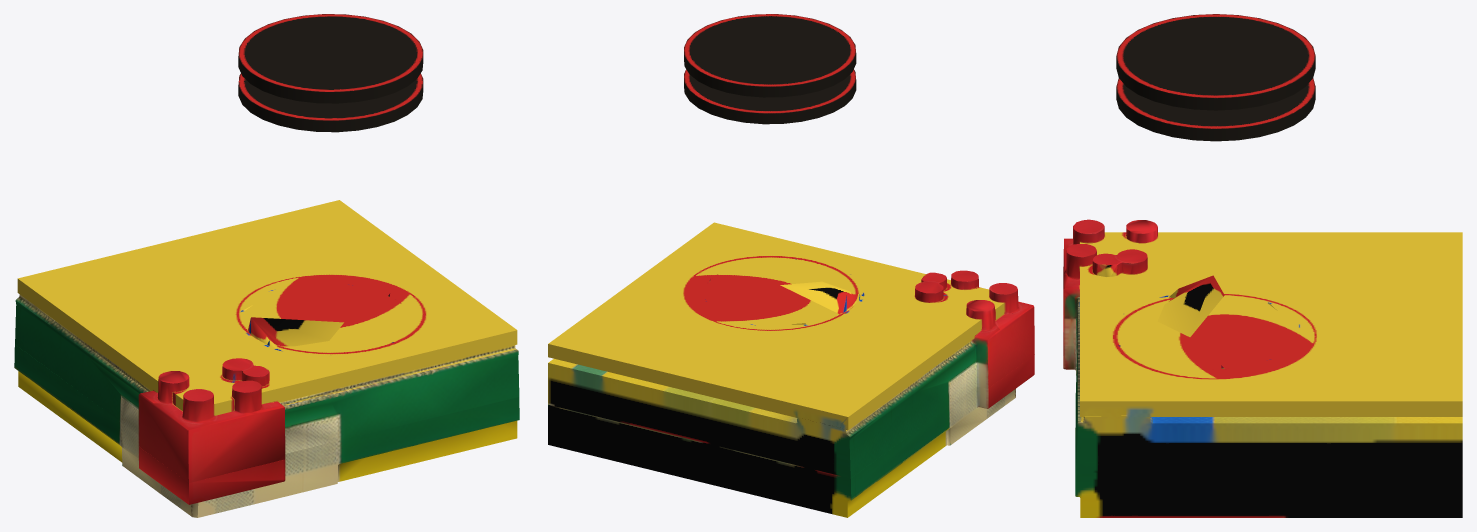
Rendered from 9-roof-front-left.fbx.
3 renders of one model, left to right at view 1: azimuth 30°, elevation 25°; view 2: azimuth 150°, elevation 25°; view 3: azimuth 270°, elevation 25°, orthographic. The views are drawn at different scales.
Parts seen in each view (by area): view 1: roof-front-left; view 2: roof-front-left; view 3: roof-front-left.
Part boxes in pixels (x1,y1,x2,y2): roof-front-left: (14, 14, 519, 517); roof-front-left: (548, 14, 1034, 517); roof-front-left: (1063, 14, 1462, 517).
Bounding box in the file's own units: 4914 × 5152 × 4696.
1 material, 1 textured.
